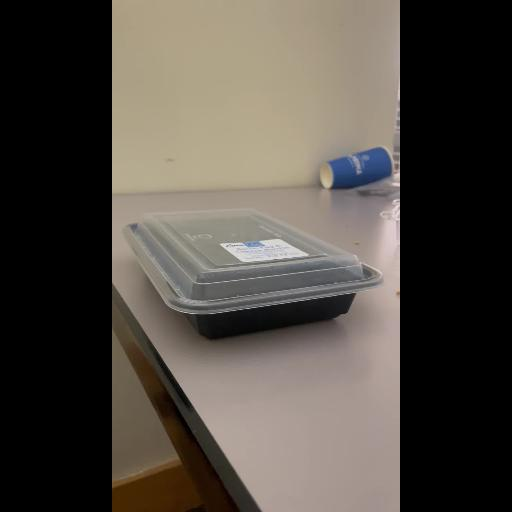rigid_plastic_container: (122, 208, 386, 338)
